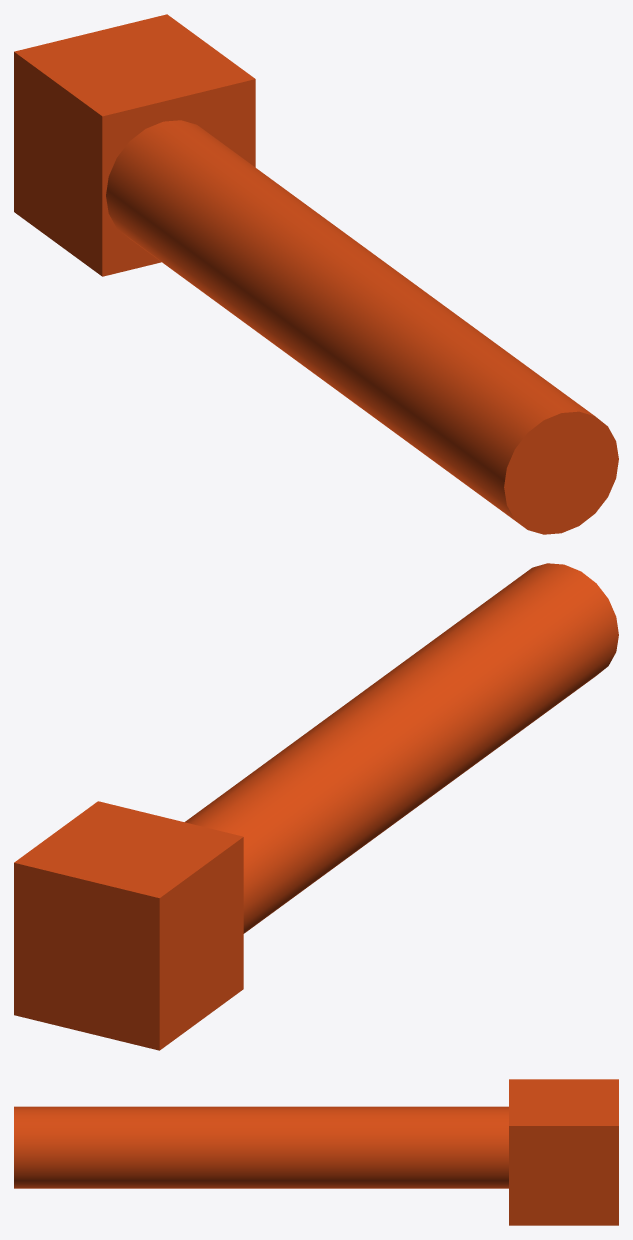
Rendered from Piston_Parent.fbx.
3 views of the same model, one above another, from view 1: azimuth 30°, elevation 25°; view 2: azimuth 150°, elevation 25°; view 3: azimuth 270°, elevation 25° (orthographic). The views are drawn at different scales.
Visible parts, largest first — view 1: Piston_Parent; view 2: Piston_Parent; view 3: Piston_Parent.
Boxes of the visible parts, x1=… form: Piston_Parent: x1=14, y1=14, x2=618, y2=534; Piston_Parent: x1=14, y1=563, x2=618, y2=1050; Piston_Parent: x1=14, y1=1079, x2=618, y2=1225.
Bounding box in the file's own units: 40 × 40 × 220.
